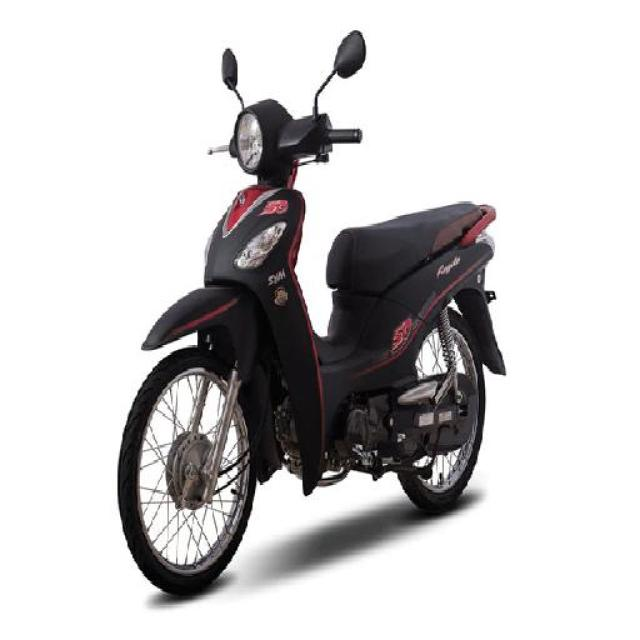All: (113, 94, 516, 594)
Head: (207, 102, 368, 170)
Tail: (438, 188, 501, 261)
